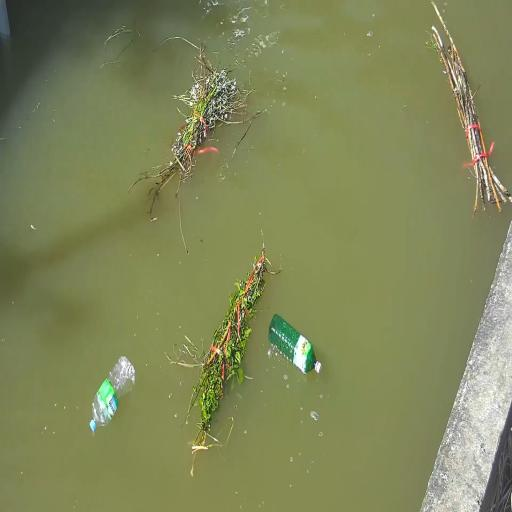plastic: (76, 352, 146, 434), (266, 314, 327, 380)
twig: (168, 268, 260, 454), (432, 18, 508, 212), (165, 66, 237, 189)
